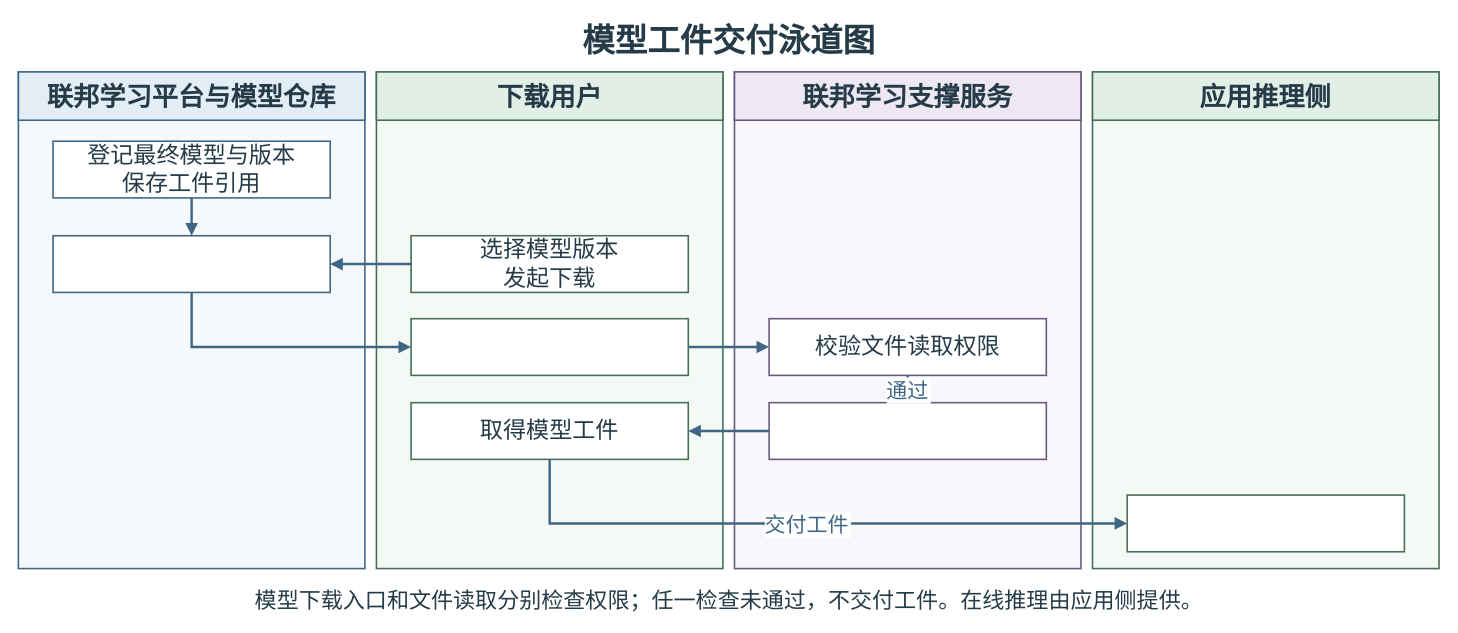
Image size: 1458x633. Some labels were removed from this diagram. Each missing label, with the centre of its shape:
按工件引用发起取文件: the point at 549,346
接收模型工件 由应用推理侧部署: the point at 1265,523
校验模型下载操作权限 核对登记状态并定位工件: the point at 191,263
读取并返回文件内容: the point at 907,430
